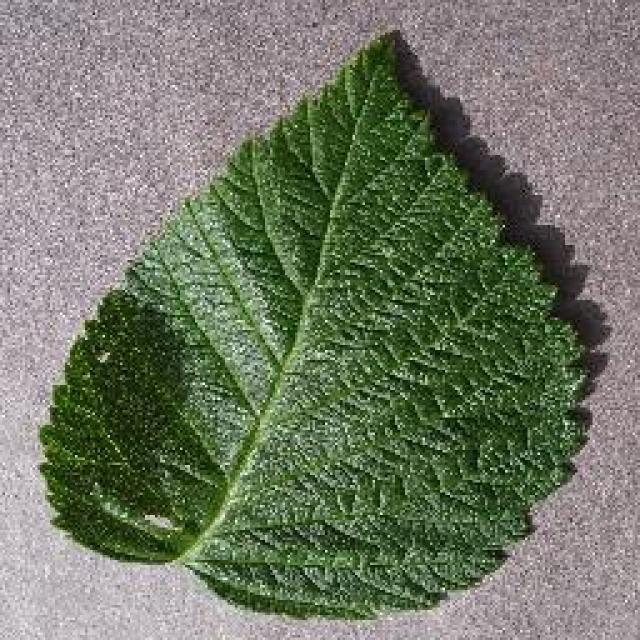Ras_healthy: (78, 141, 525, 590)
